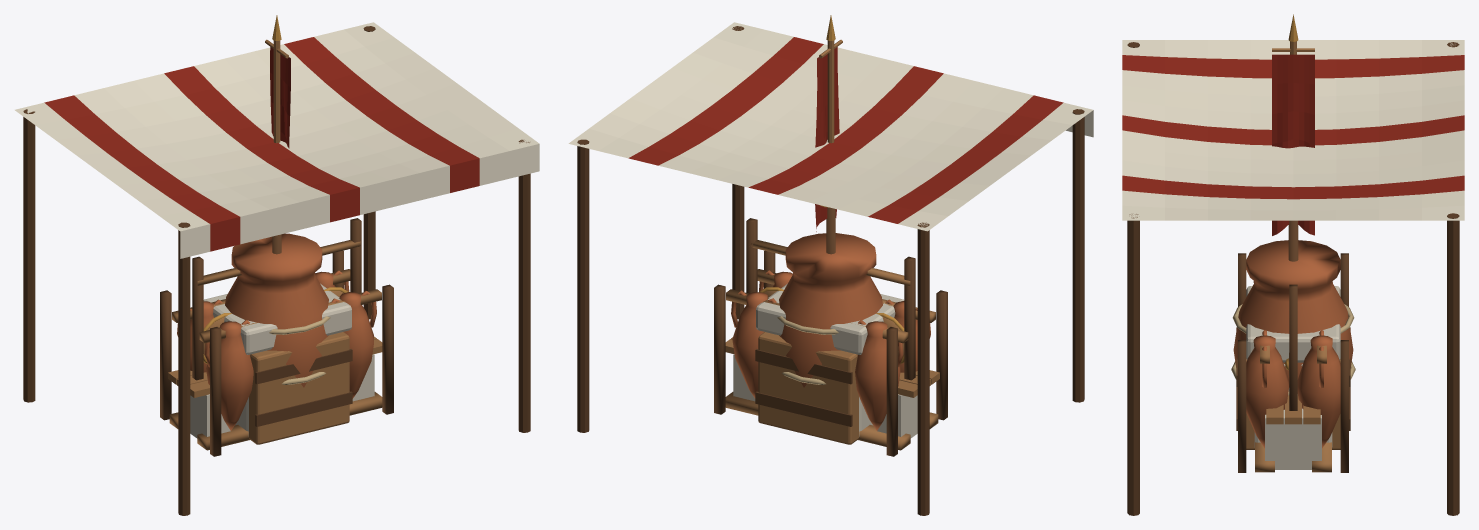
Rendered from dock_props.glb.
The picture shows the model from 3 angles, left to right: view 1: azimuth 30°, elevation 25°; view 2: azimuth 150°, elevation 25°; view 3: azimuth 270°, elevation 25°; orthographic projection. The views are drawn at different scales.
Visible parts, largest first — view 1: awning, amphora_rack, pithos, crate, shield_rack, altar, banner, bench; view 2: awning, amphora_rack, pithos, crate, shield_rack, banner, altar, bench; view 3: awning, amphora_rack, pithos, banner, bench, altar, shield_rack, crate, lamp_post.
Part boxes in pixels (bbox=[...]): awning: bbox=[15, 22, 539, 515]; amphora_rack: bbox=[160, 250, 393, 456]; pithos: bbox=[225, 233, 330, 387]; crate: bbox=[249, 332, 352, 444]; shield_rack: bbox=[192, 218, 361, 380]; altar: bbox=[203, 283, 351, 436]; banner: bbox=[265, 15, 290, 148]; bench: bbox=[168, 336, 382, 438]; awning: bbox=[568, 22, 1093, 515]; amphora_rack: bbox=[714, 250, 947, 456]; pithos: bbox=[777, 233, 882, 387]; crate: bbox=[755, 332, 858, 444]; shield_rack: bbox=[746, 218, 915, 380]; banner: bbox=[815, 15, 842, 231]; altar: bbox=[756, 283, 904, 436]; bench: bbox=[725, 337, 939, 438]; awning: bbox=[1122, 40, 1464, 515]; amphora_rack: bbox=[1238, 253, 1348, 472]; pithos: bbox=[1231, 240, 1355, 395]; banner: bbox=[1272, 14, 1314, 235]; bench: bbox=[1265, 395, 1321, 469]; altar: bbox=[1246, 286, 1340, 447]; shield_rack: bbox=[1285, 284, 1297, 410]; crate: bbox=[1236, 327, 1350, 449]; lamp_post: bbox=[1288, 220, 1298, 261].
Bounding box in the file's own units: 3 × 3.2 × 2.4.
